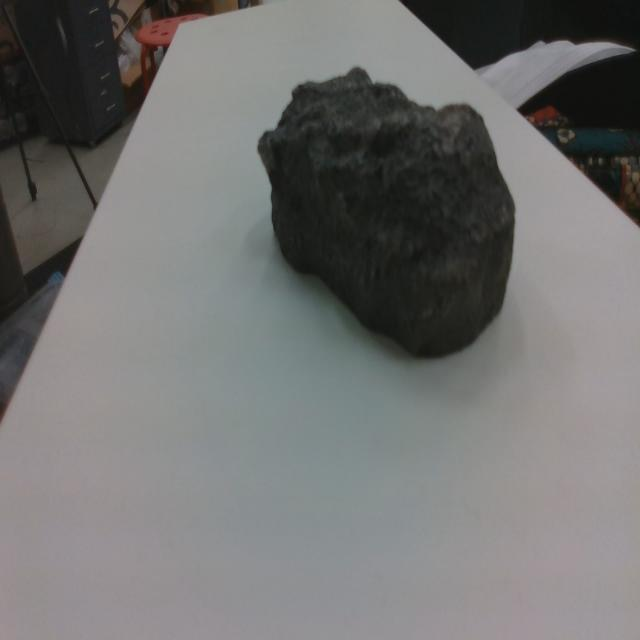stone: (258, 65, 516, 357)
